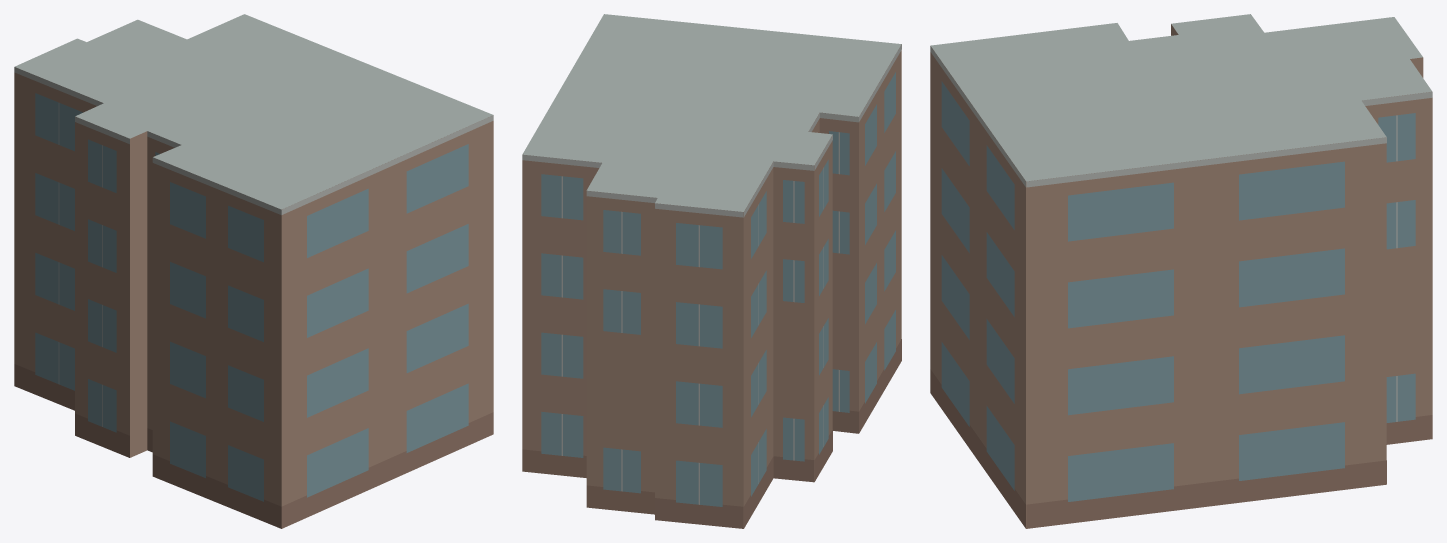
File: survey-upis-32915646.glb
3 views of the same model, side by side, from view 1: azimuth 30°, elevation 25°; view 2: azimuth 150°, elevation 25°; view 3: azimuth 270°, elevation 25° (orthographic). The views are drawn at different scales.
Visible parts, largest first — view 1: survey-upis-32915646.tmp; view 2: survey-upis-32915646.tmp; view 3: survey-upis-32915646.tmp.
Boxes of the visible parts, box(x1,y1,x2,y2) form: survey-upis-32915646.tmp: box(14, 14, 493, 528); survey-upis-32915646.tmp: box(522, 14, 901, 528); survey-upis-32915646.tmp: box(930, 14, 1432, 528).
Size of the model in its own units: 14.38 by 13.9 by 18.22.
